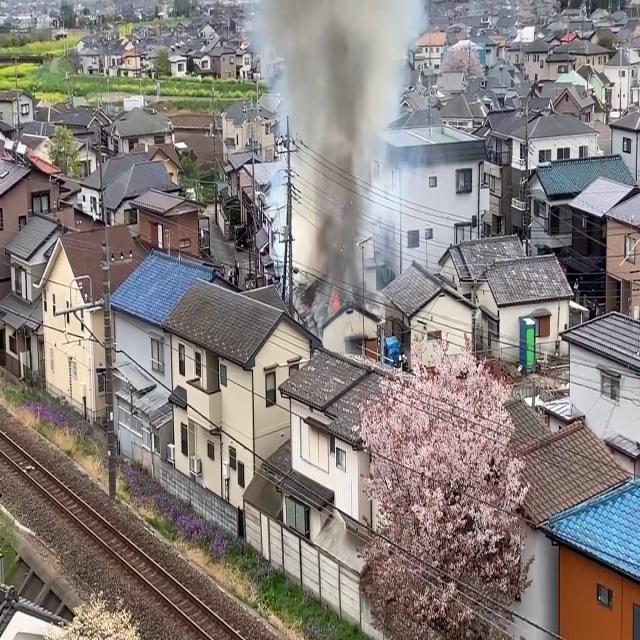Smoke: (292, 1, 396, 307)
